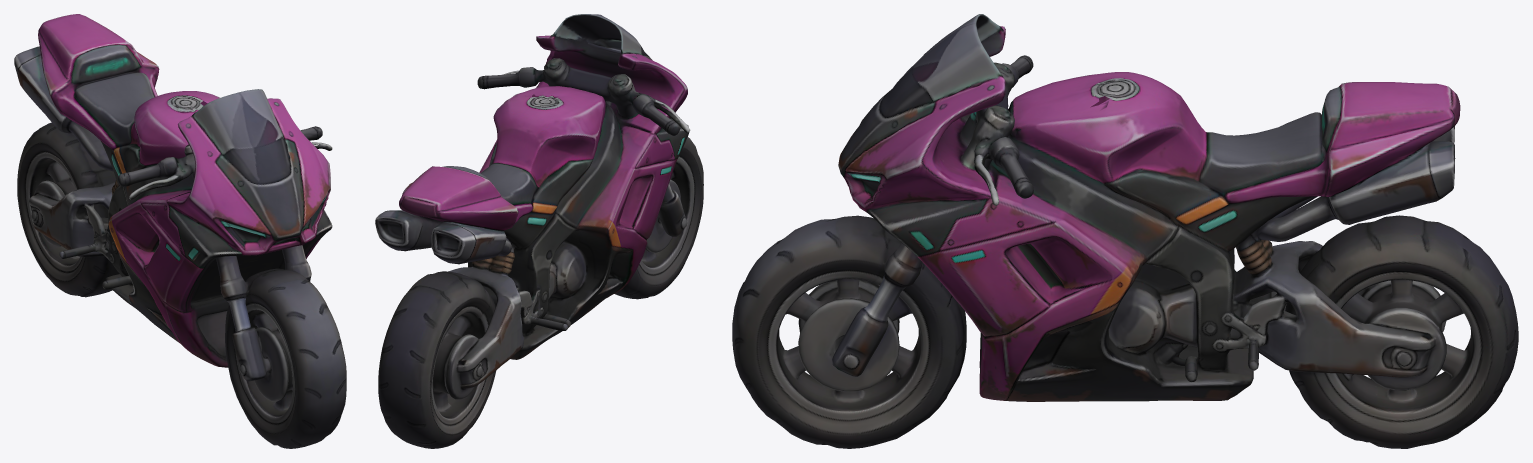
The picture shows the model from 3 angles, left to right: view 1: azimuth 30°, elevation 25°; view 2: azimuth 150°, elevation 25°; view 3: azimuth 270°, elevation 25°; orthographic projection. The views are drawn at different scales.
Parts seen in each view (by area): view 1: Carroceria, Rueda_D, Rueda_T; view 2: Carroceria, Rueda_T, Rueda_D; view 3: Carroceria, Rueda_D, Rueda_T.
Part boxes in pixels (bbox=[...]): Carroceria: bbox=[14, 14, 332, 381]; Rueda_D: bbox=[225, 262, 346, 448]; Rueda_T: bbox=[17, 122, 119, 297]; Carroceria: bbox=[375, 14, 690, 399]; Rueda_T: bbox=[378, 271, 500, 448]; Rueda_D: bbox=[614, 137, 703, 299]; Carroceria: bbox=[832, 14, 1460, 401]; Rueda_D: bbox=[732, 215, 966, 448]; Rueda_T: bbox=[1269, 215, 1518, 448].
Bounding box in the file's own units: 0.8135 × 1.2 × 2.05.
Materials: 1 (1 with a texture image).
